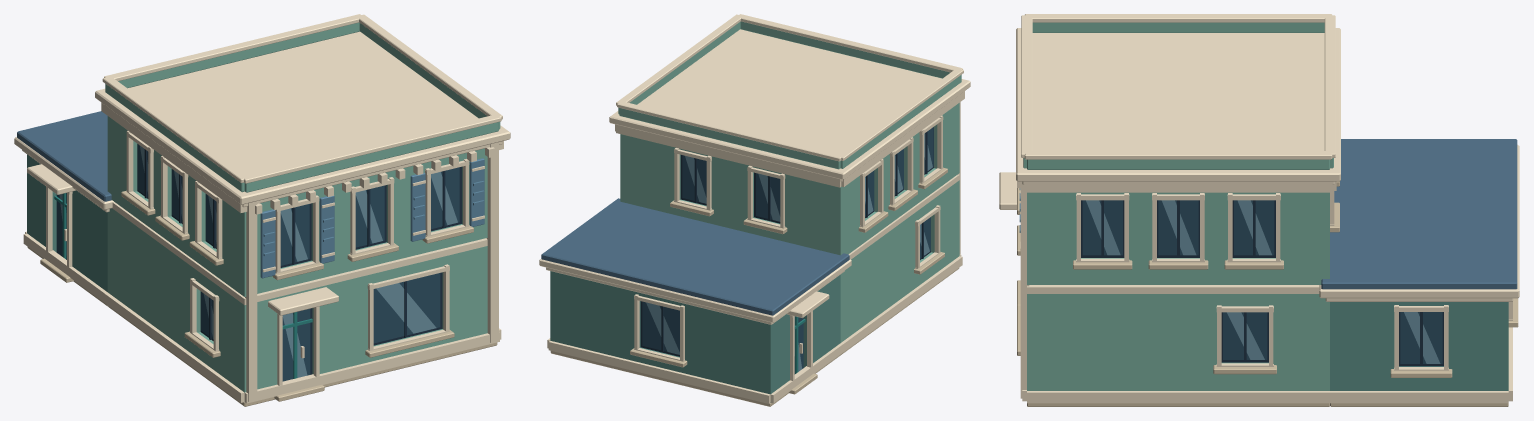
File: annex_townhouse.glb
3 views of the same model, side by side, from view 1: azimuth 30°, elevation 25°; view 2: azimuth 150°, elevation 25°; view 3: azimuth 270°, elevation 25° (orthographic). The views are drawn at different scales.
Visible parts, largest first — view 1: AnnexTownhouse_StaticMesh; view 2: AnnexTownhouse_StaticMesh; view 3: AnnexTownhouse_StaticMesh.
Part boxes in pixels (<box>): AnnexTownhouse_StaticMesh: <box>14,14,510,406</box>; AnnexTownhouse_StaticMesh: <box>539,14,970,406</box>; AnnexTownhouse_StaticMesh: <box>999,14,1519,406</box>.
Size of the model in its own units: 8.64 by 6.76 by 12.52.
